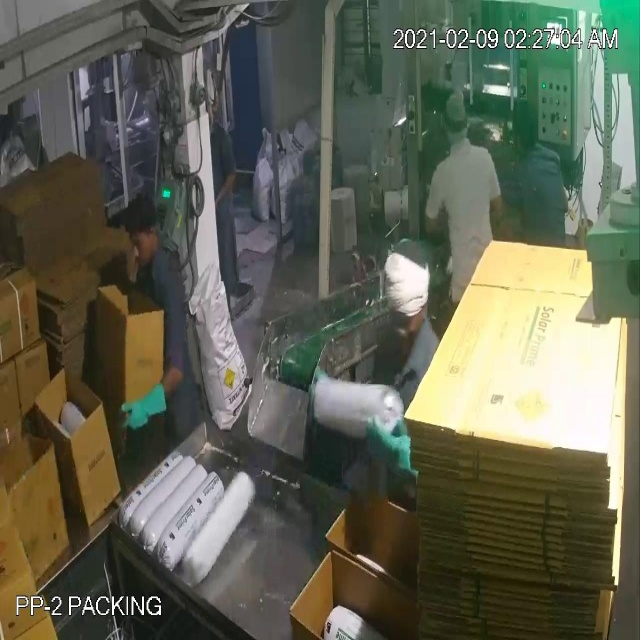Guantes: (363, 411, 425, 492), (118, 384, 170, 438)
Sin_guantes: (214, 164, 236, 210)
